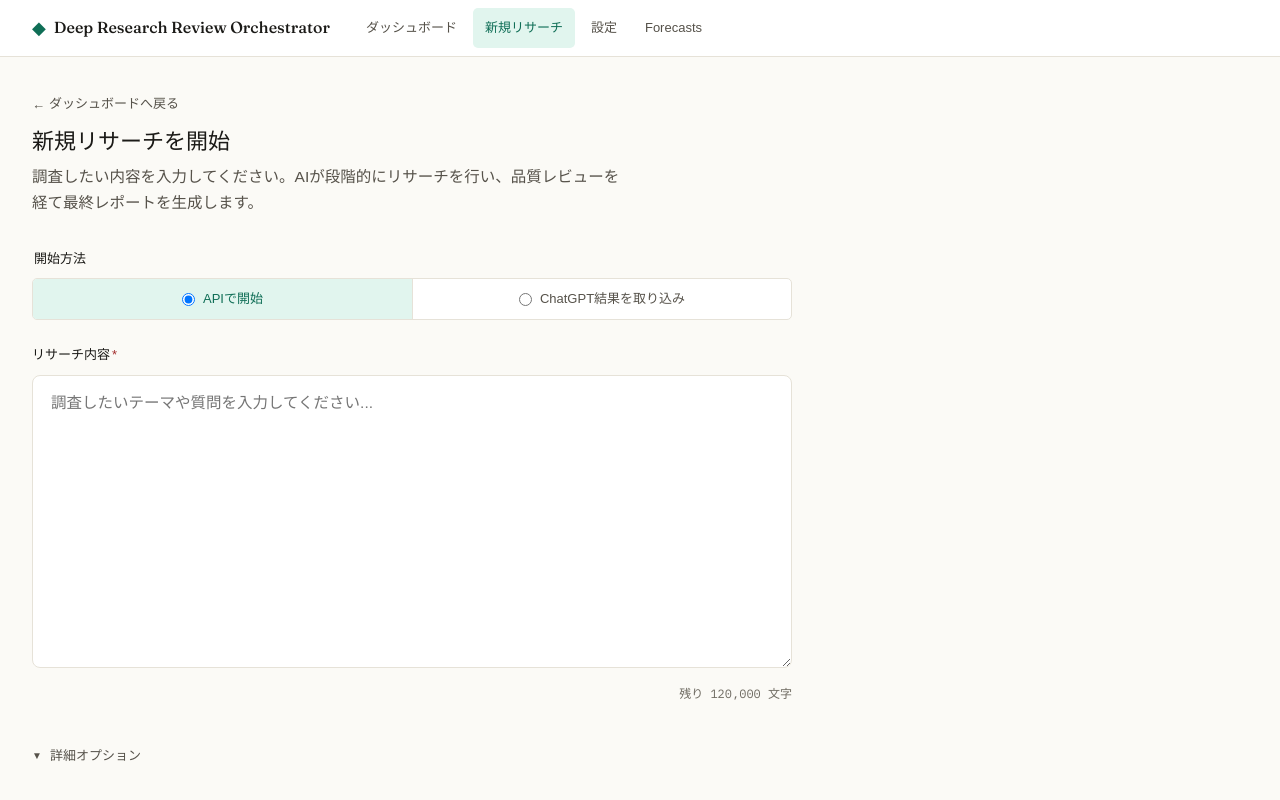
Test: NewResearch (SCR-1) › start button becomes enabled after entering a prompt
Type "日本のAI政策について調査してください" into the text box labelled "リサーチ内容*".
click(412, 521); type("日本のAI政策について調査してください")  # box [32,375,792,668]
(page scrolled)
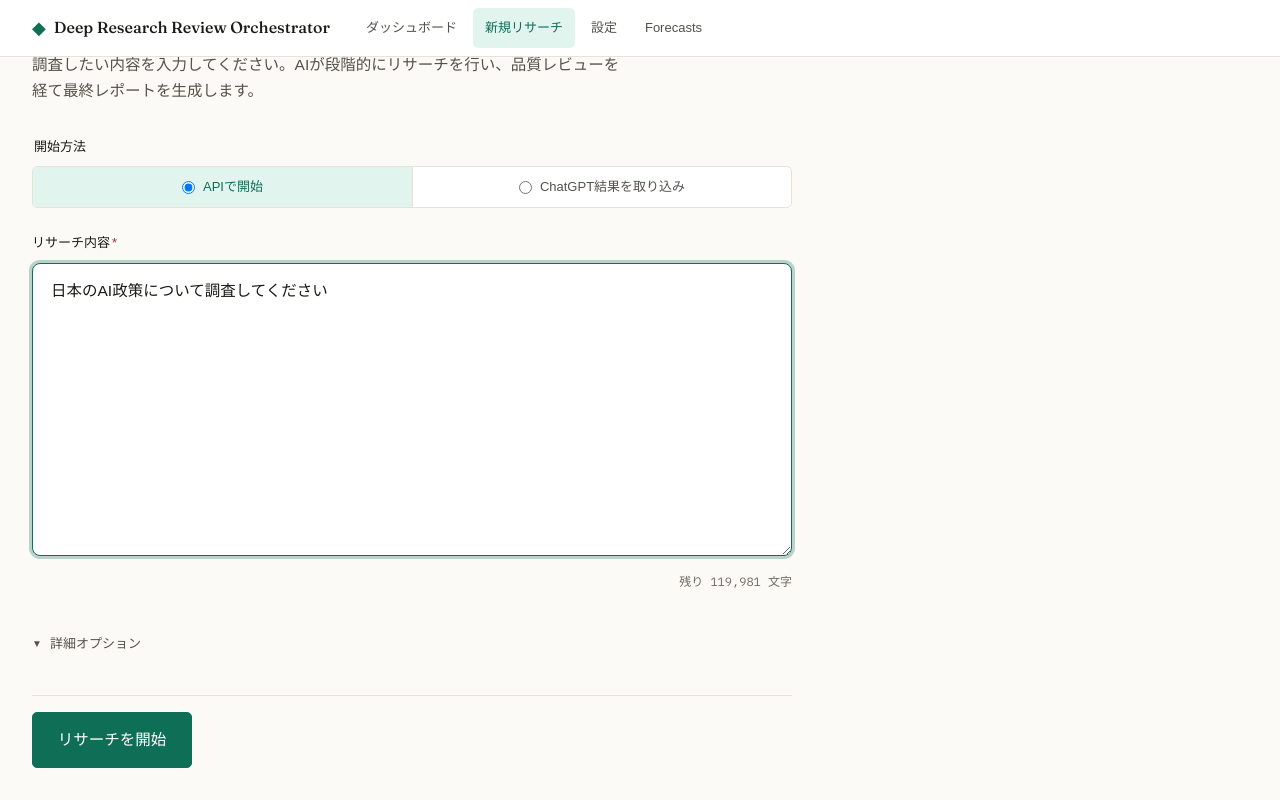
Result: the button "リサーチを開始" is enabled at [32,712,192,768]
